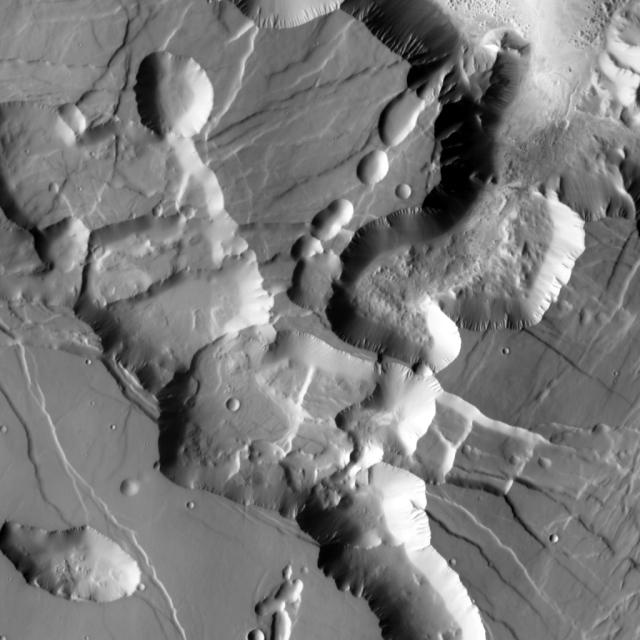crater: (401, 183, 417, 199), (256, 629, 273, 640), (234, 399, 246, 412), (554, 535, 564, 544), (159, 207, 168, 216), (5, 425, 13, 433), (448, 550, 455, 558), (187, 496, 194, 502), (502, 343, 508, 349)
